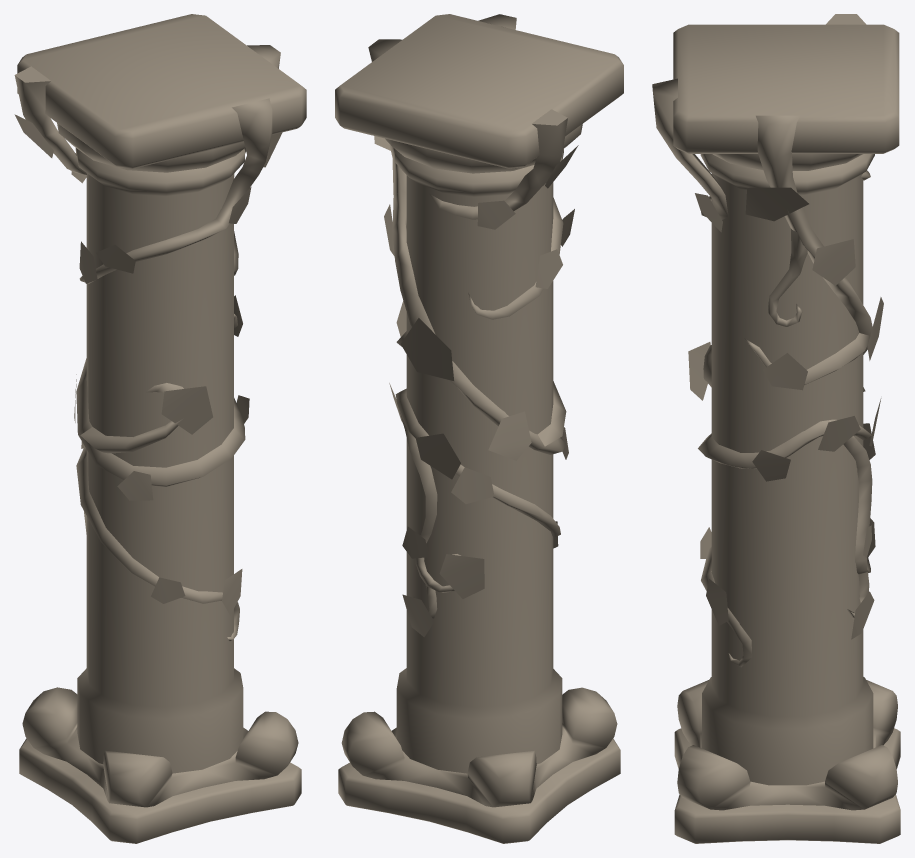
The model's file is remains-pillar.glb.
3 renders of one model, left to right at view 1: azimuth 30°, elevation 25°; view 2: azimuth 150°, elevation 25°; view 3: azimuth 270°, elevation 25°, orthographic. The views are drawn at different scales.
Parts seen in each view (by area): view 1: FtrRemainsPillar_node7; view 2: FtrRemainsPillar_node7; view 3: FtrRemainsPillar_node7.
Boxes of the visible parts, left/top/right/bottom form: FtrRemainsPillar_node7: left=14, top=14, right=306, bottom=843; FtrRemainsPillar_node7: left=335, top=14, right=623, bottom=843; FtrRemainsPillar_node7: left=652, top=14, right=900, bottom=843.
Bounding box in the file's own units: 9.19 × 27.9 × 8.64.
